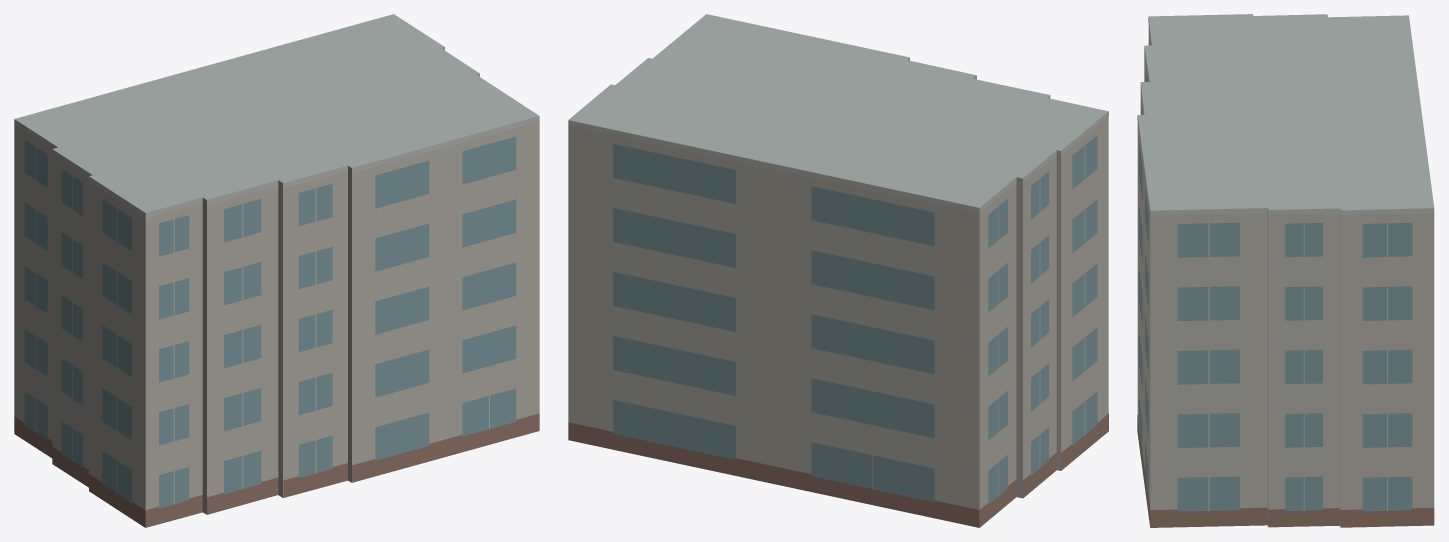
The model's file is survey-upis-32701607.glb.
The picture shows the model from 3 angles, left to right: view 1: azimuth 30°, elevation 25°; view 2: azimuth 150°, elevation 25°; view 3: azimuth 270°, elevation 25°; orthographic projection.
Visible parts, largest first — view 1: survey-upis-32701607.tmp; view 2: survey-upis-32701607.tmp; view 3: survey-upis-32701607.tmp.
Boxes of the visible parts, box(x1,y1,x2,y2) form: survey-upis-32701607.tmp: box(14, 14, 539, 527); survey-upis-32701607.tmp: box(568, 14, 1108, 527); survey-upis-32701607.tmp: box(1137, 14, 1434, 527).
Size of the model in its own units: 19.54 by 14.7 by 12.47.
